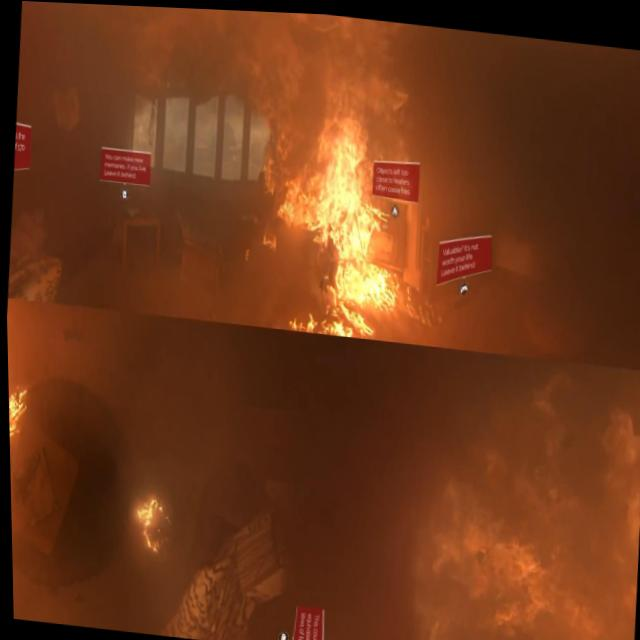fire: (251, 77, 455, 341), (6, 367, 35, 523), (128, 485, 174, 562)
